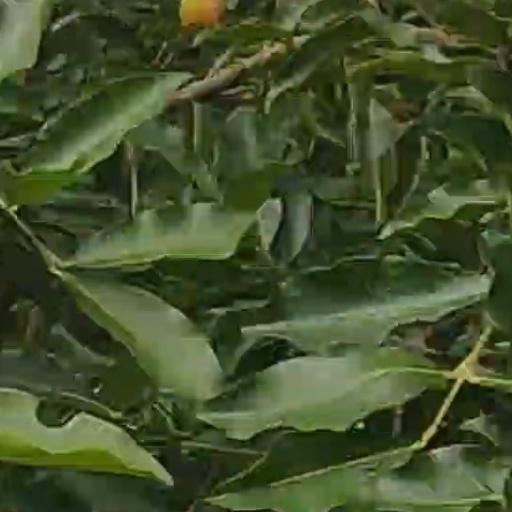acerola: (179, 1, 226, 26)
